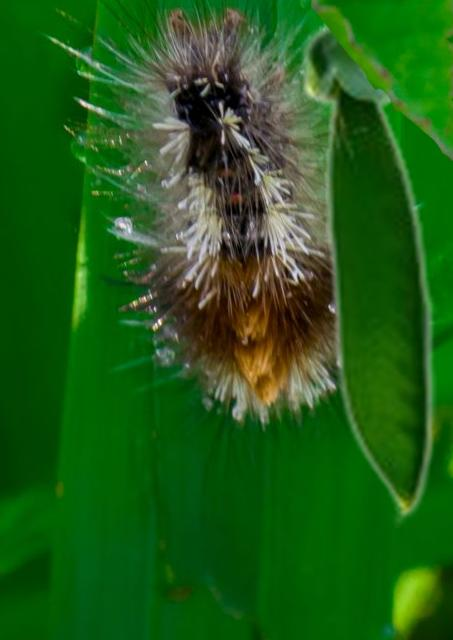pea: (298, 19, 435, 526)
